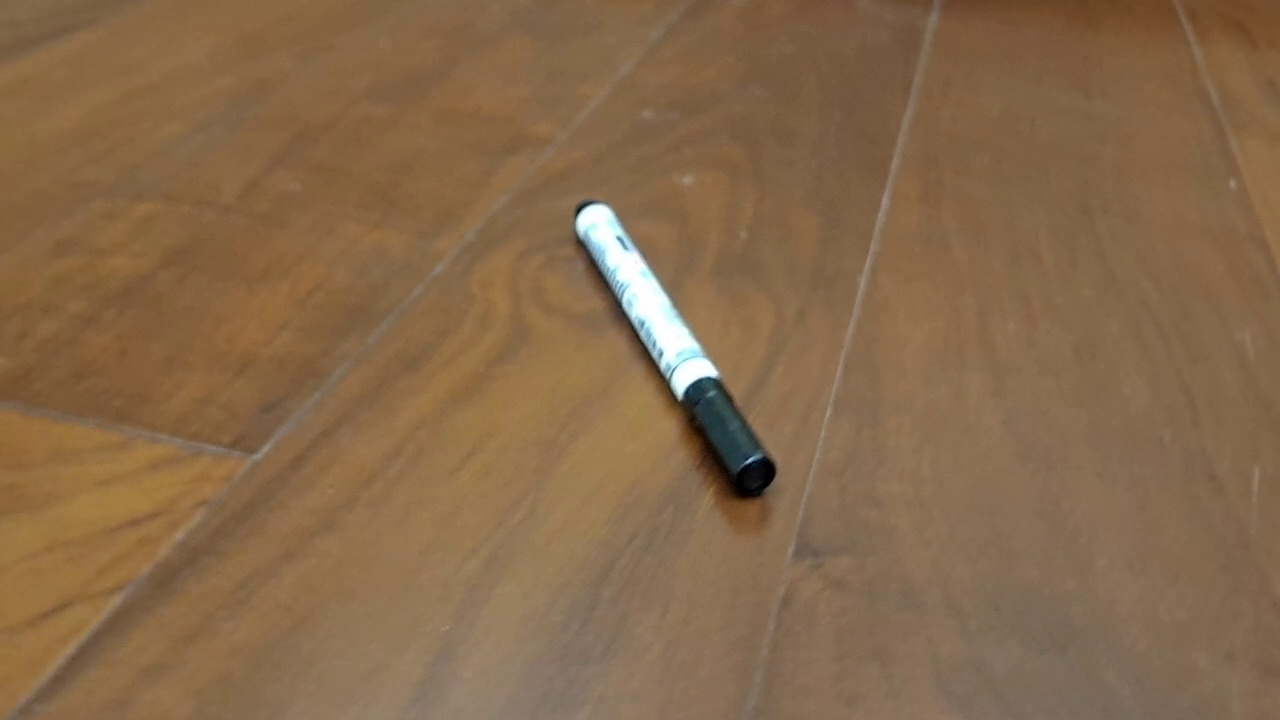pen: (573, 199, 777, 499)
